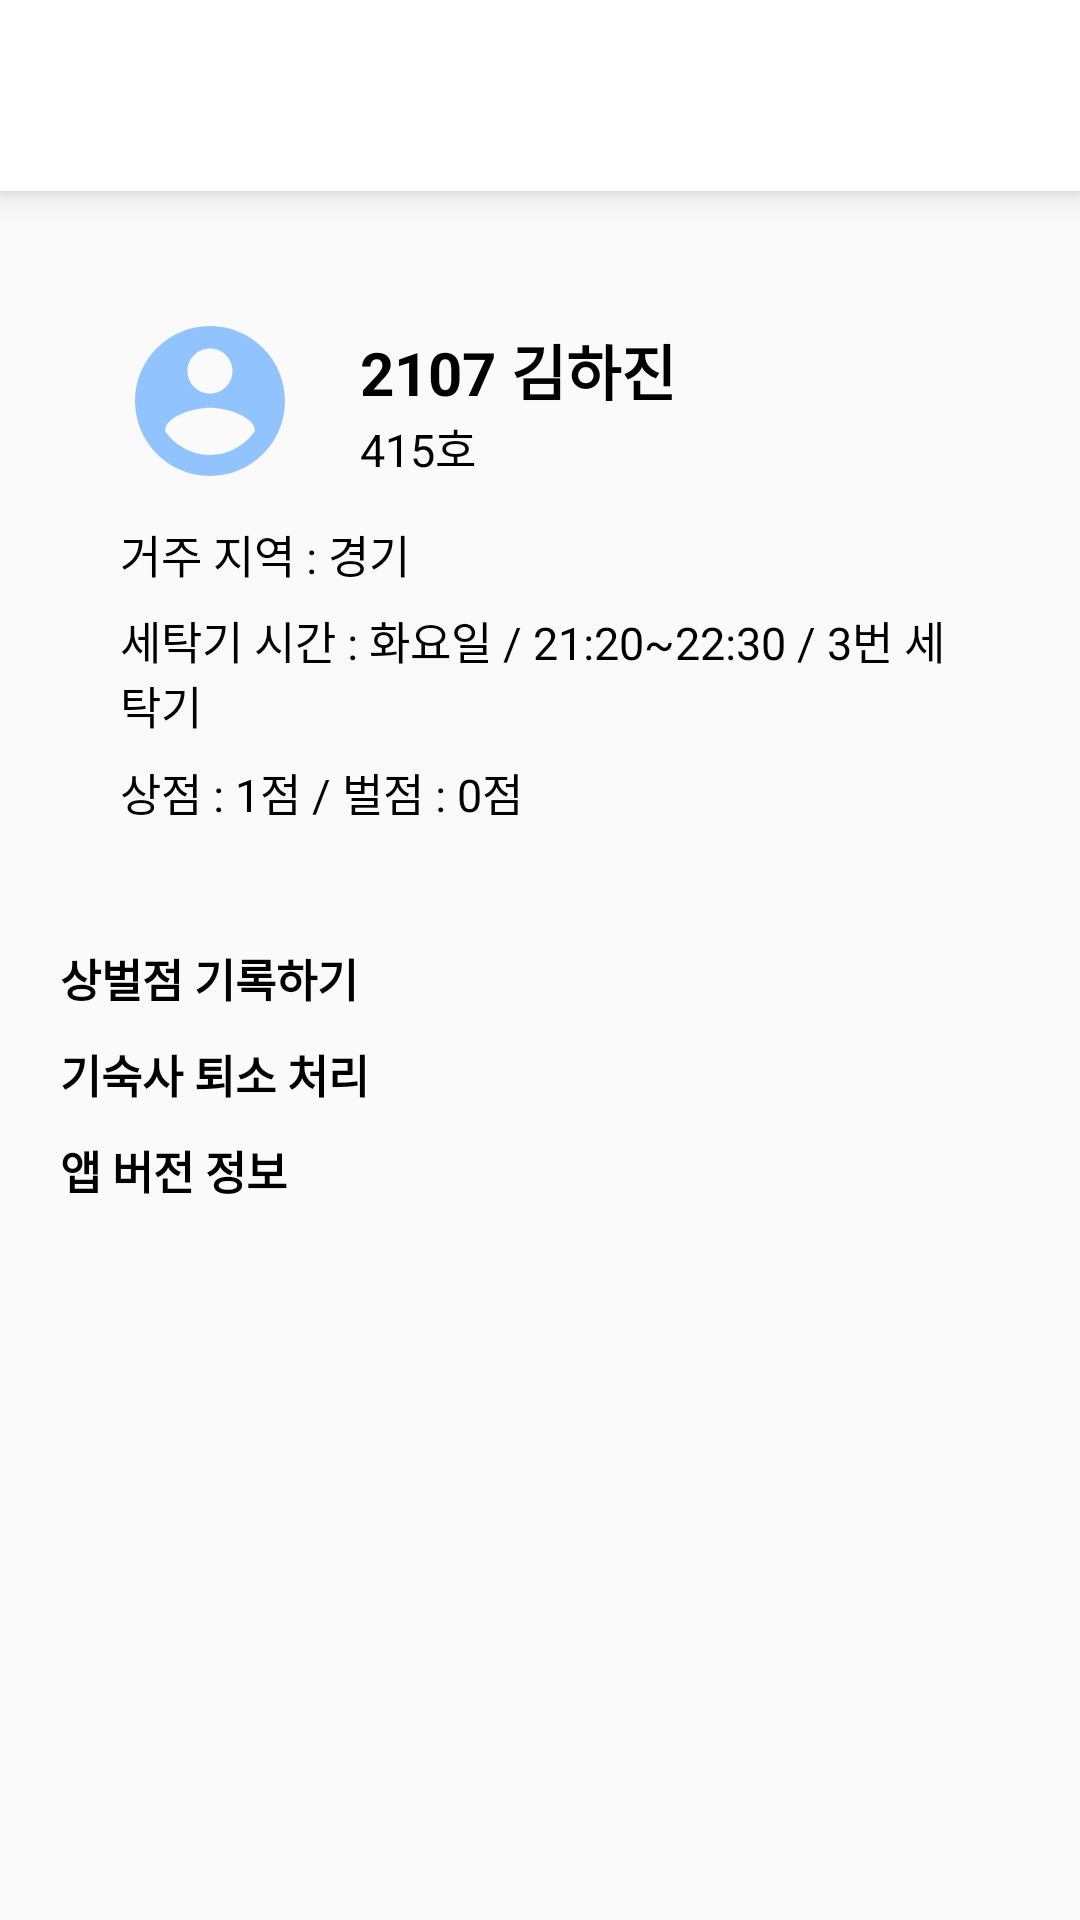

Named icons in this screenshot (1080 × 1920) and their centers, point (x, y):
account circle: point (210, 401)
